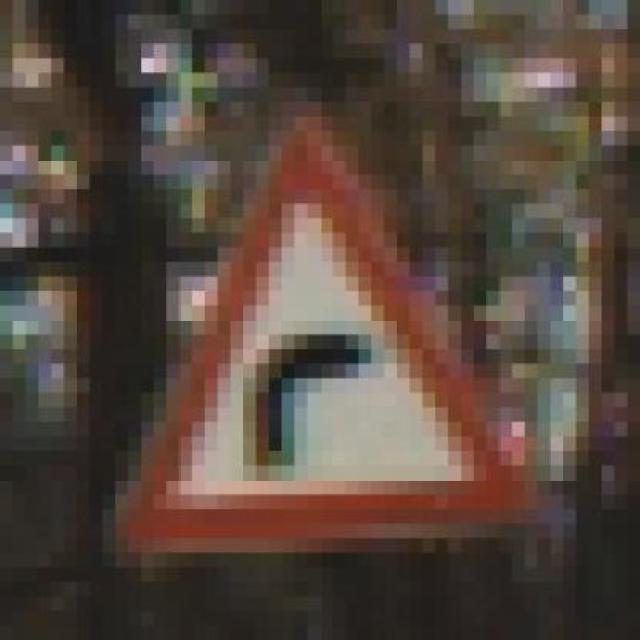Dangerous Rright Curve Ahead: (89, 102, 525, 552)
